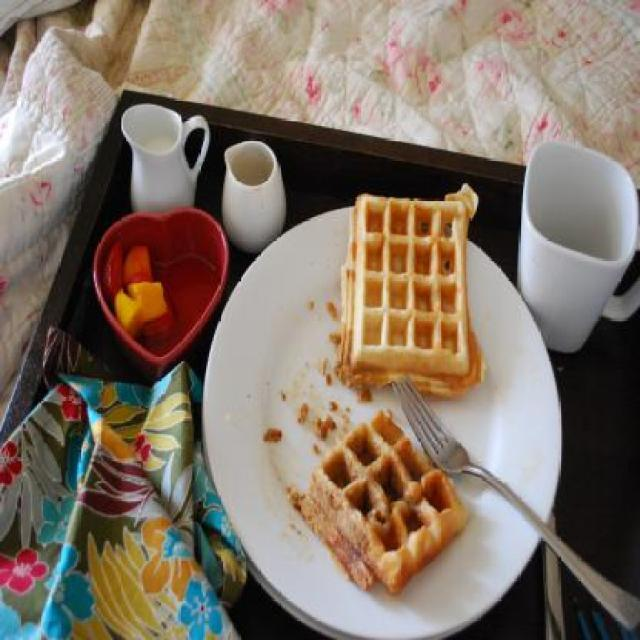Waffle: (288, 402, 470, 592), (334, 183, 486, 399)
